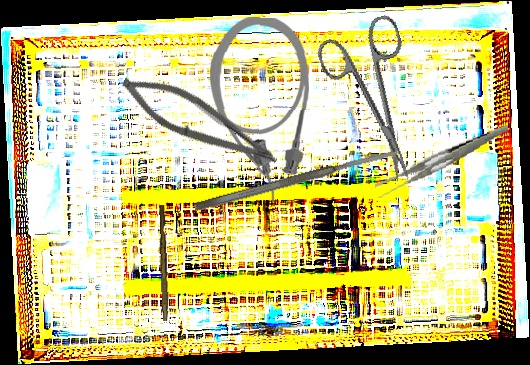Cannula: (207, 16, 311, 203)
Dressing Forceps: (368, 124, 516, 199)
Iris Scissors: (312, 12, 441, 194)
Micro Scissor: (113, 65, 288, 175)
Scalpel Handle: (156, 204, 172, 322)
Spatula Surgical: (193, 146, 400, 214)
